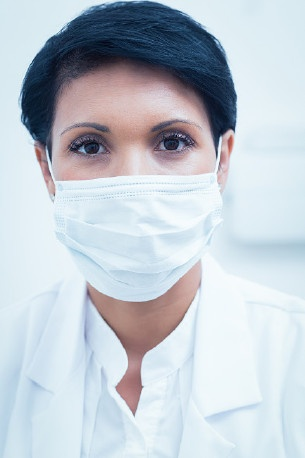Mask: (37, 109, 231, 302)
